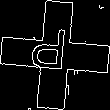P_S: (34, 28, 76, 82)
